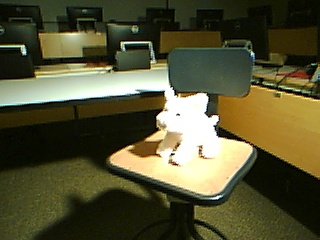piggy: (154, 84, 223, 167)
